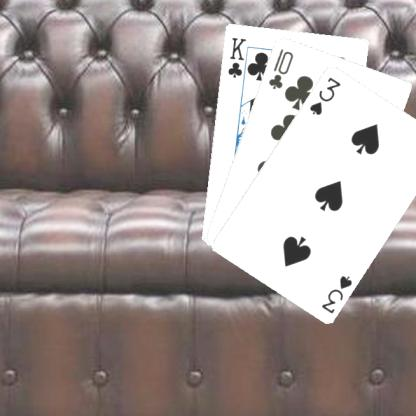10C: (265, 45, 295, 91)
3S: (318, 271, 354, 315), (306, 74, 342, 116)
KC: (224, 34, 250, 84)
